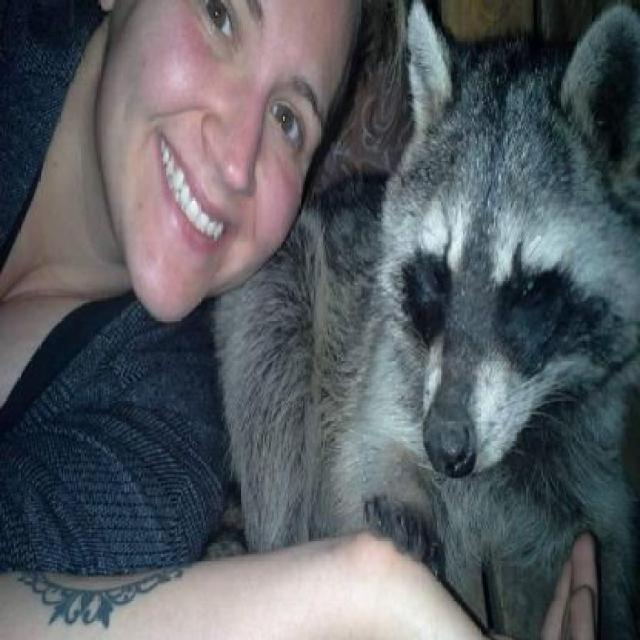raccon: (215, 0, 639, 635)
